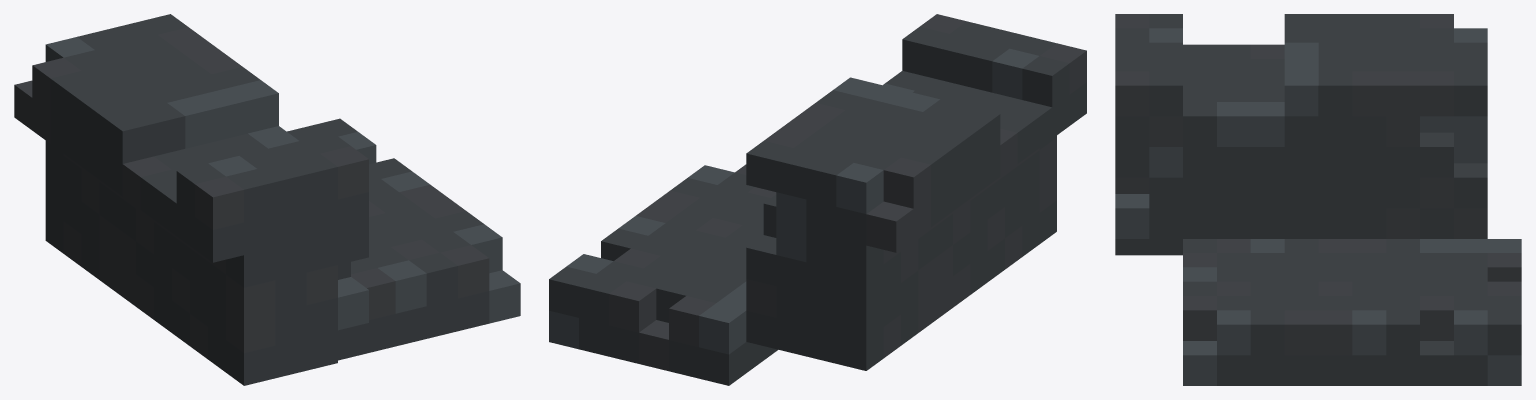
File: tomb_2.obj
The picture shows the model from 3 angles, left to right: view 1: azimuth 30°, elevation 25°; view 2: azimuth 150°, elevation 25°; view 3: azimuth 270°, elevation 25°; orthographic projection. The views are drawn at different scales.
Parts seen in each view (by area): view 1: Tomb2; view 2: Tomb2; view 3: Tomb2.
Boxes of the visible parts, x1=… form: Tomb2: x1=14, y1=14, x2=520, y2=385; Tomb2: x1=549, y1=14, x2=1086, y2=385; Tomb2: x1=1115, y1=14, x2=1521, y2=385.
Bounding box in the file's own units: 1.1 × 0.7 × 1.2.
Materials: 1 (1 with a texture image).
